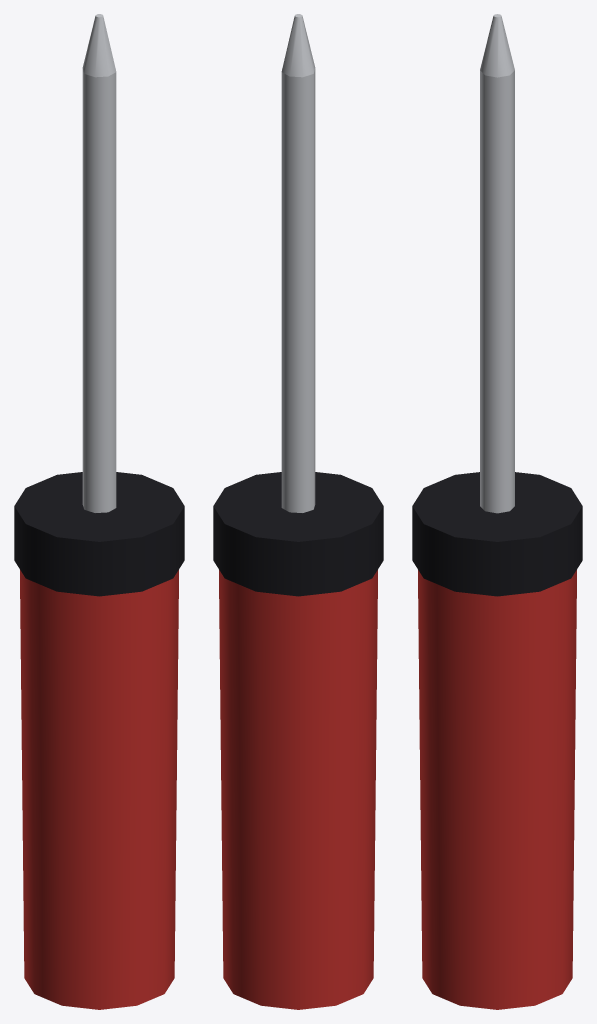
Rendered from chave_phillips.obj.
The picture shows the model from 3 angles, left to right: view 1: azimuth 30°, elevation 25°; view 2: azimuth 150°, elevation 25°; view 3: azimuth 270°, elevation 25°; orthographic projection.
Parts seen in each view (by area): view 1: chave_phillips; view 2: chave_phillips; view 3: chave_phillips.
Boxes of the visible parts, x1,y1,x2,y2 form: chave_phillips: (14,14,184,1009); chave_phillips: (213,14,383,1009); chave_phillips: (412,14,582,1009).
Bounding box in the file's own units: 0.034 × 0.212 × 0.034.
